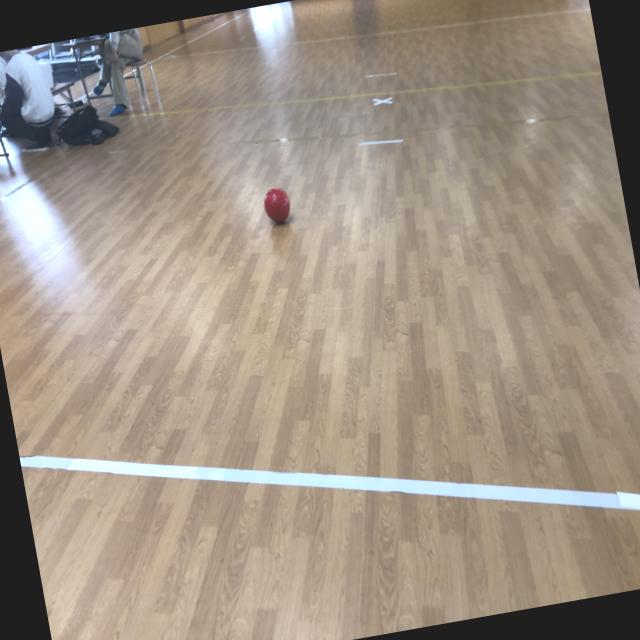red_ball: (260, 182, 294, 226)
